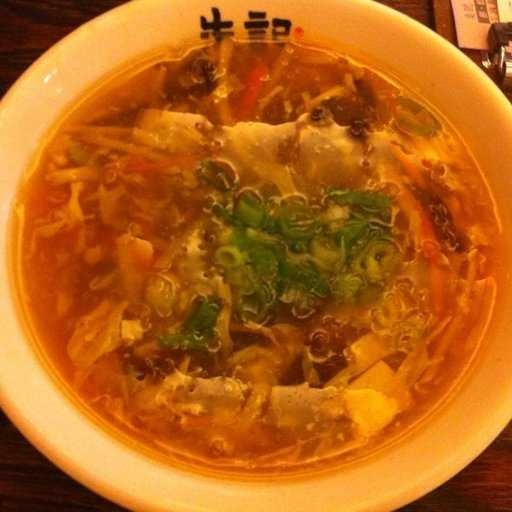soup: (1, 53, 503, 482)
